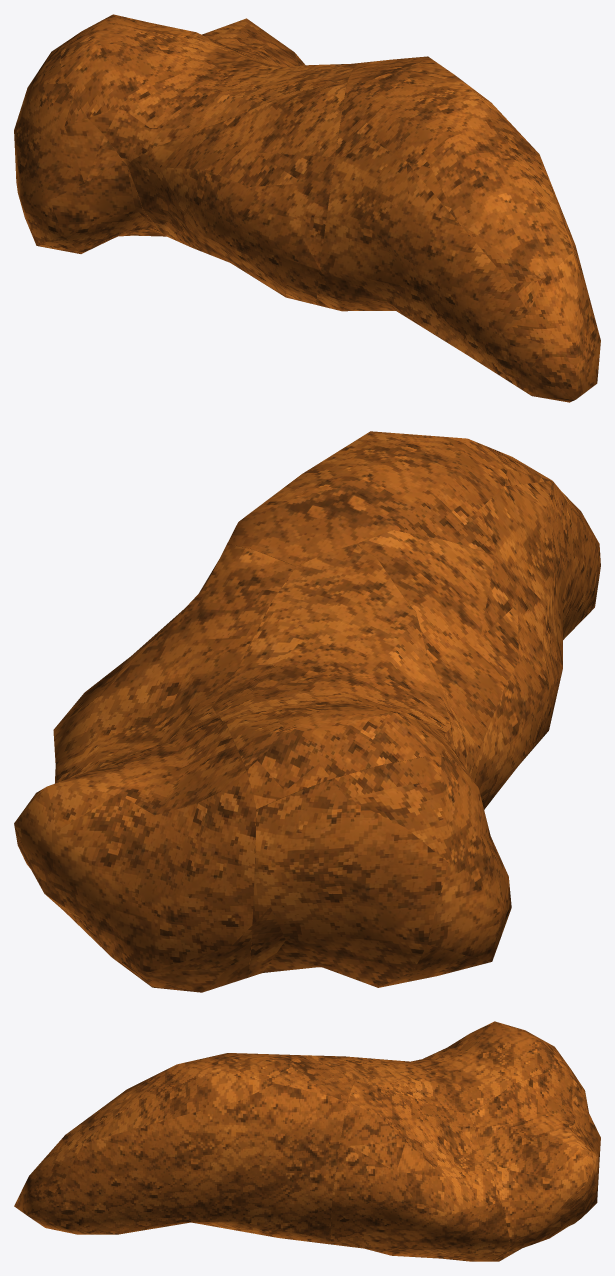
The model's file is PoopChunks_01.fbx.
3 views of the same model, one above another, from view 1: azimuth 30°, elevation 25°; view 2: azimuth 150°, elevation 25°; view 3: azimuth 270°, elevation 25° (orthographic). The views are drawn at different scales.
Parts seen in each view (by area): view 1: Piece_1_cell.002, Piece_1_cell, Piece_1_cell.003, Piece_1_cell.004, Piece_1_cell.005; view 2: Piece_1_cell.004, Piece_1_cell.005, Piece_1_cell.003, Piece_1_cell.002, Piece_1_cell, Piece_1_cell.001; view 3: Piece_1_cell.002, Piece_1_cell.001, Piece_1_cell.005, Piece_1_cell.003.
Boxes of the visible parts, bbox=[...] form: Piece_1_cell.002: bbox=[316, 56, 600, 402]; Piece_1_cell: bbox=[127, 80, 347, 304]; Piece_1_cell.003: bbox=[60, 14, 353, 164]; Piece_1_cell.004: bbox=[14, 41, 166, 253]; Piece_1_cell.005: bbox=[202, 18, 305, 66]; Piece_1_cell.004: bbox=[248, 756, 511, 987]; Piece_1_cell.005: bbox=[14, 706, 256, 992]; Piece_1_cell.003: bbox=[212, 544, 467, 809]; Piece_1_cell.002: bbox=[212, 431, 600, 668]; Piece_1_cell: bbox=[357, 530, 562, 809]; Piece_1_cell.001: bbox=[53, 544, 295, 783]; Piece_1_cell.002: bbox=[14, 1053, 354, 1244]; Piece_1_cell.001: bbox=[330, 1081, 509, 1261]; Piece_1_cell.005: bbox=[469, 1067, 600, 1259]; Piece_1_cell.003: bbox=[324, 1021, 573, 1113].
Size of the model in its own units: 590 by 393 by 1068.
